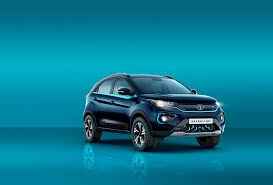Tata Nexon: (80, 69, 225, 153)
